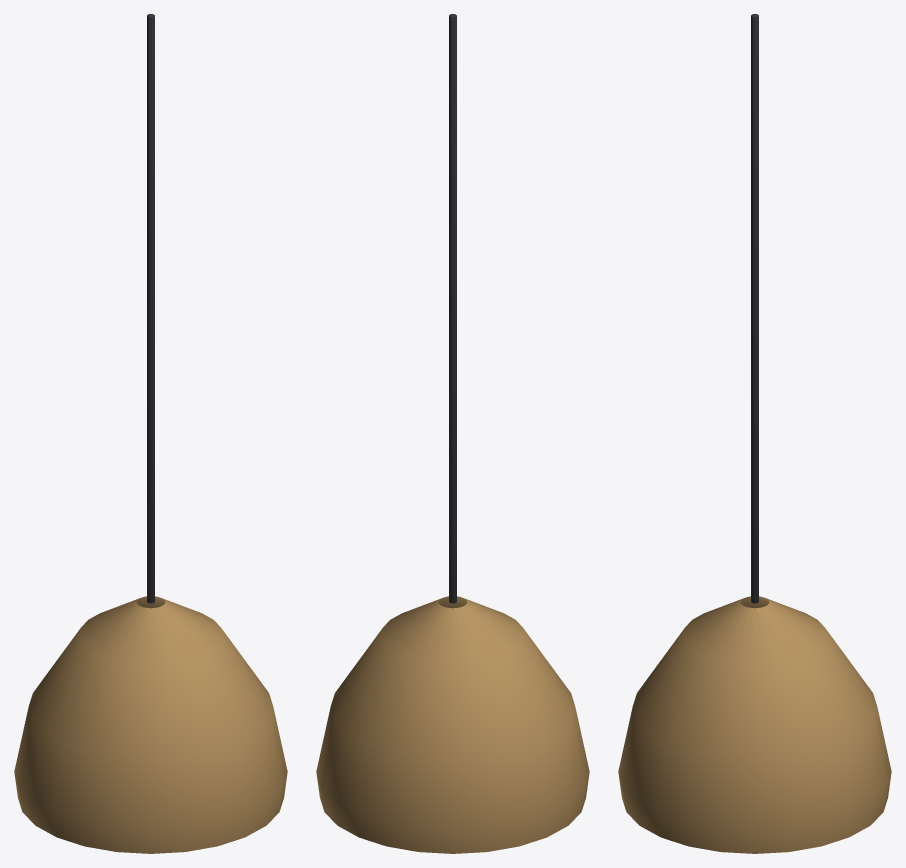
The model's file is pendant.glb.
3 views of the same model, side by side, from view 1: azimuth 30°, elevation 25°; view 2: azimuth 150°, elevation 25°; view 3: azimuth 270°, elevation 25° (orthographic).
Visible parts, largest first — view 1: pend_shade, pend_cord; view 2: pend_shade, pend_cord; view 3: pend_shade, pend_cord.
Boxes of the visible parts, <box> form: pend_shade: <box>14,596,287,853</box>; pend_cord: <box>147,14,154,603</box>; pend_shade: <box>316,596,589,853</box>; pend_cord: <box>449,14,456,603</box>; pend_shade: <box>618,596,891,853</box>; pend_cord: <box>751,14,758,603</box>.
Size of the model in its own units: 0.38 by 1.23 by 0.38.
